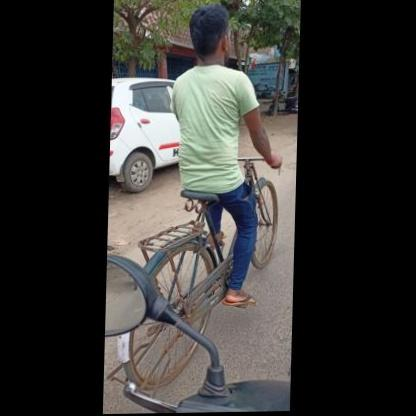Bicycle: (114, 140, 280, 412)
